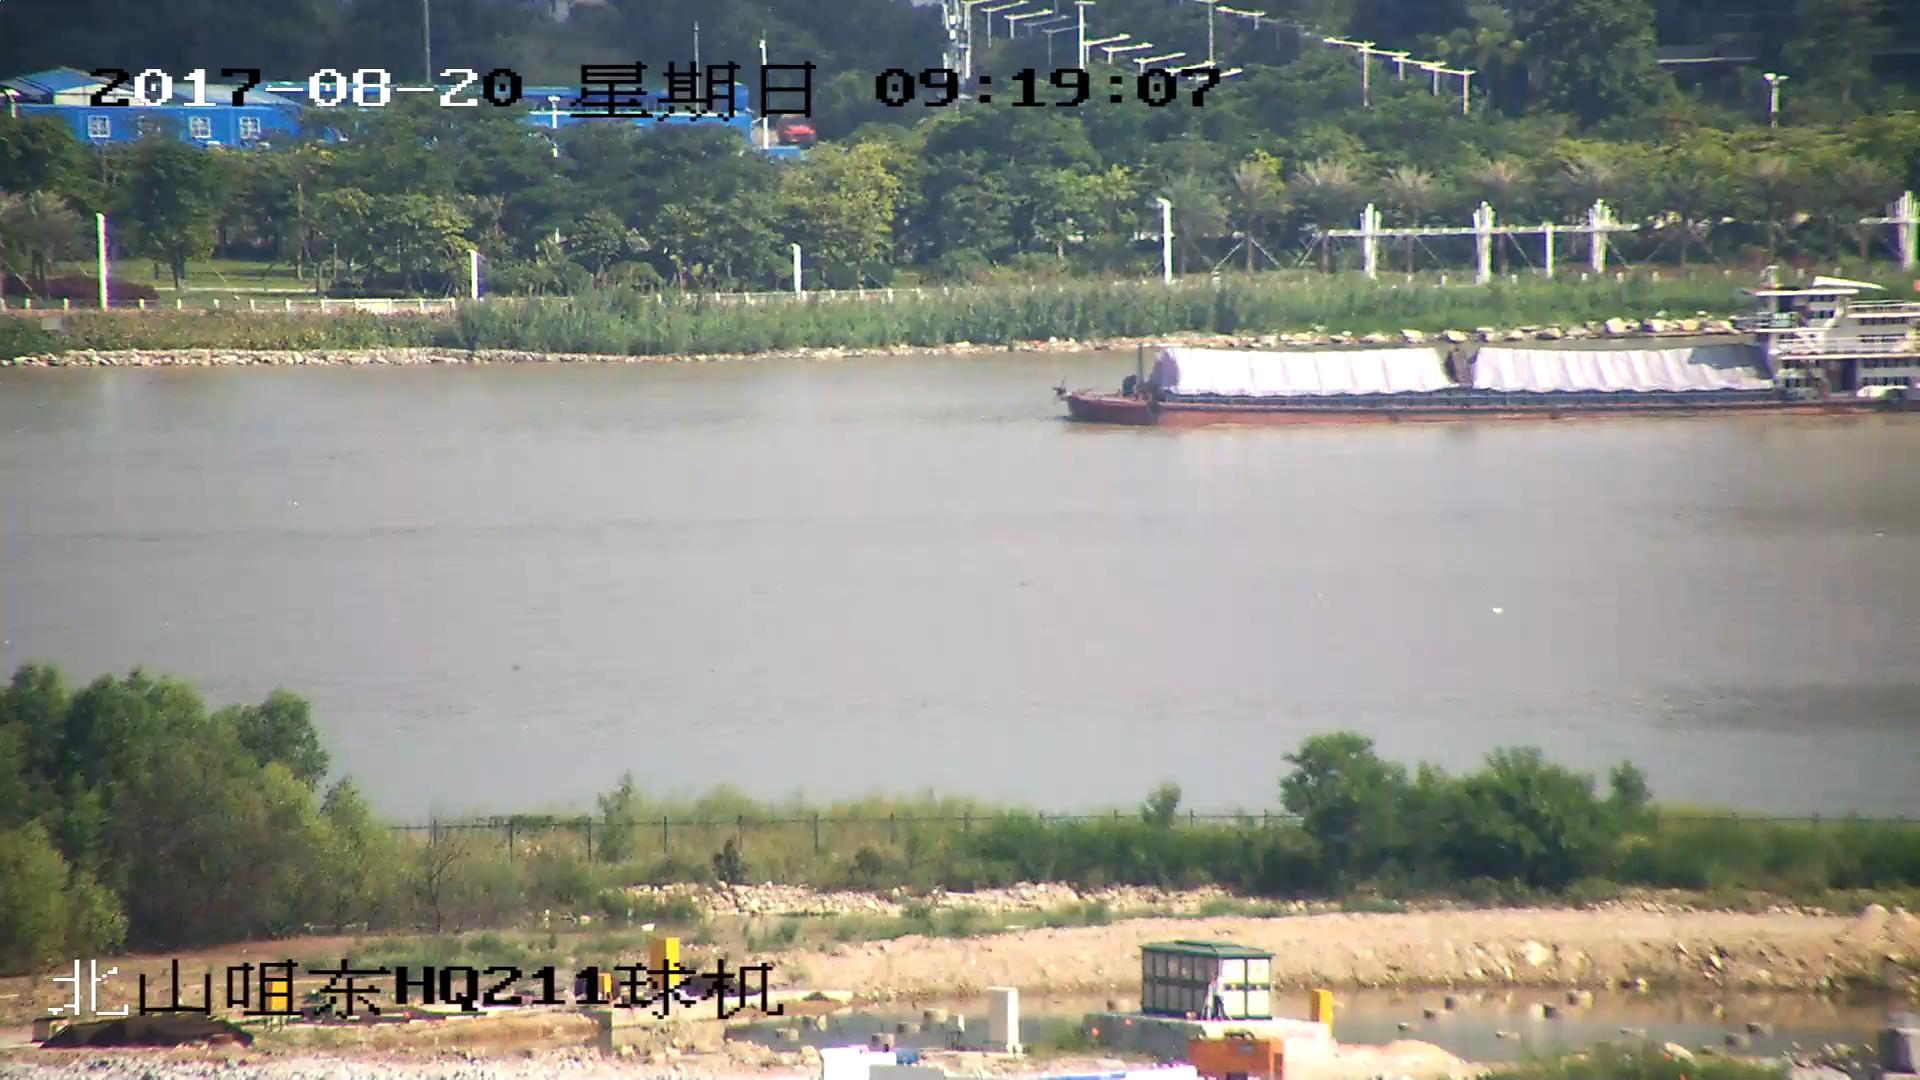Ship: (1076, 293, 1920, 426)
